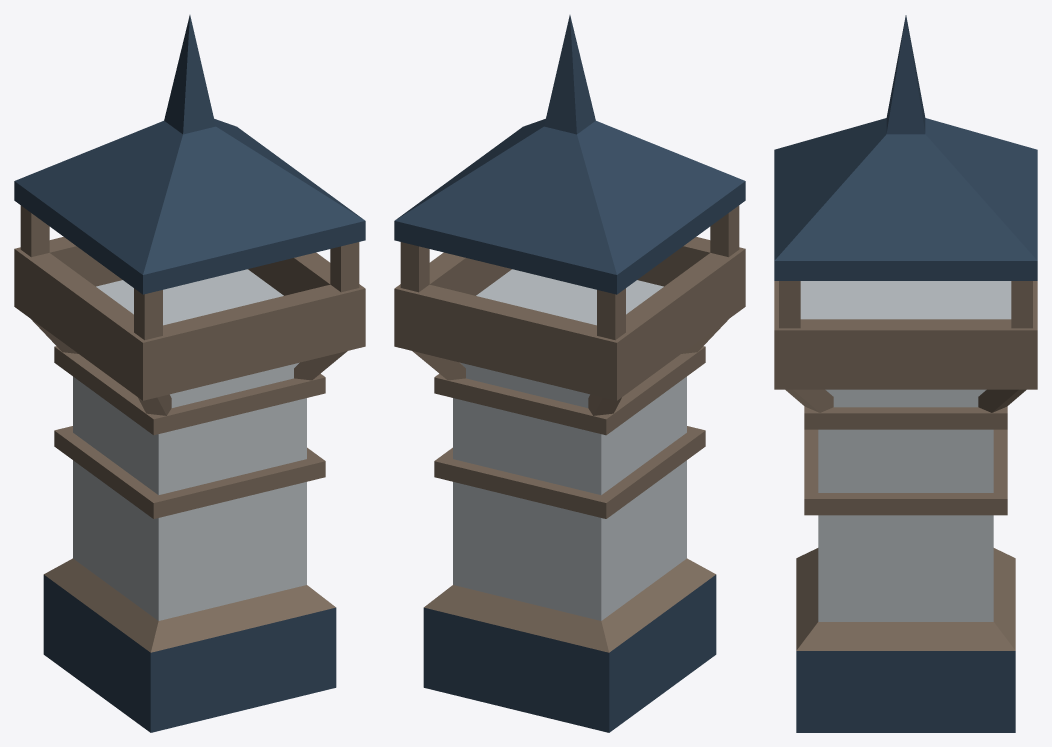
File: tower.glb
3 renders of one model, left to right at view 1: azimuth 30°, elevation 25°; view 2: azimuth 150°, elevation 25°; view 3: azimuth 270°, elevation 25°, orthographic. The views are drawn at different scales.
Parts seen in each view (by area): view 1: Cube; view 2: Cube; view 3: Cube.
Boxes of the visible parts, <box> form: Cube: <box>14,15,365,732</box>; Cube: <box>394,15,745,732</box>; Cube: <box>774,15,1037,732</box>.
Size of the model in its own units: 3.61 by 10.2 by 3.61.
1 material, 1 textured.
